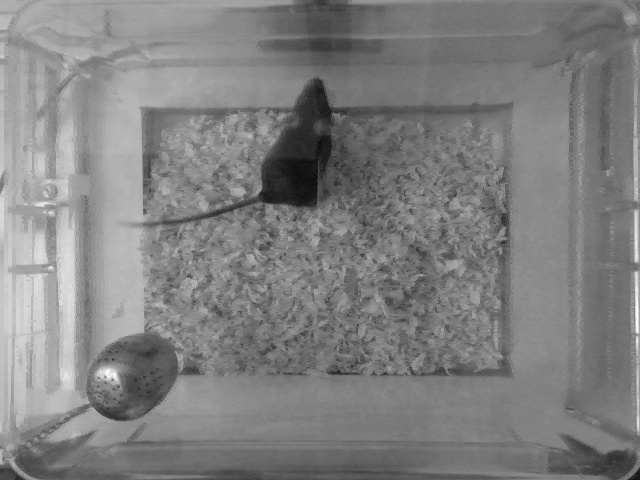mice: (120, 73, 334, 230)
